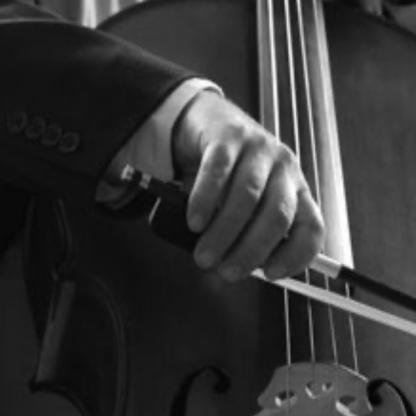good: (172, 50, 328, 280)
